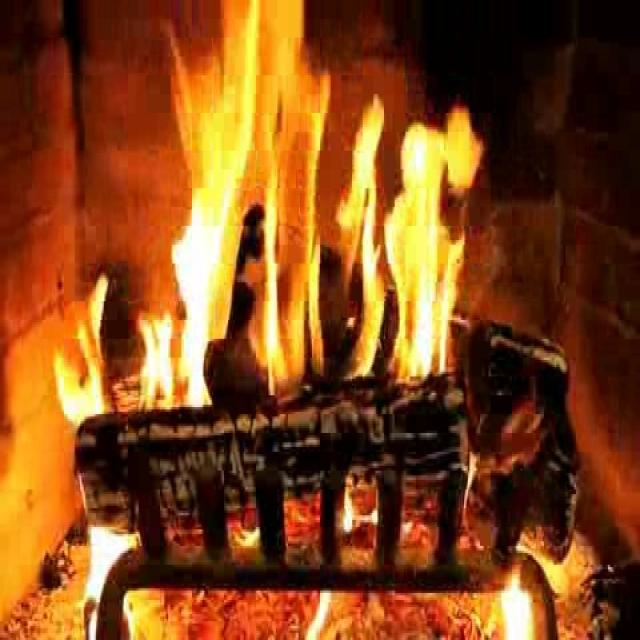fire: (152, 6, 488, 423)
